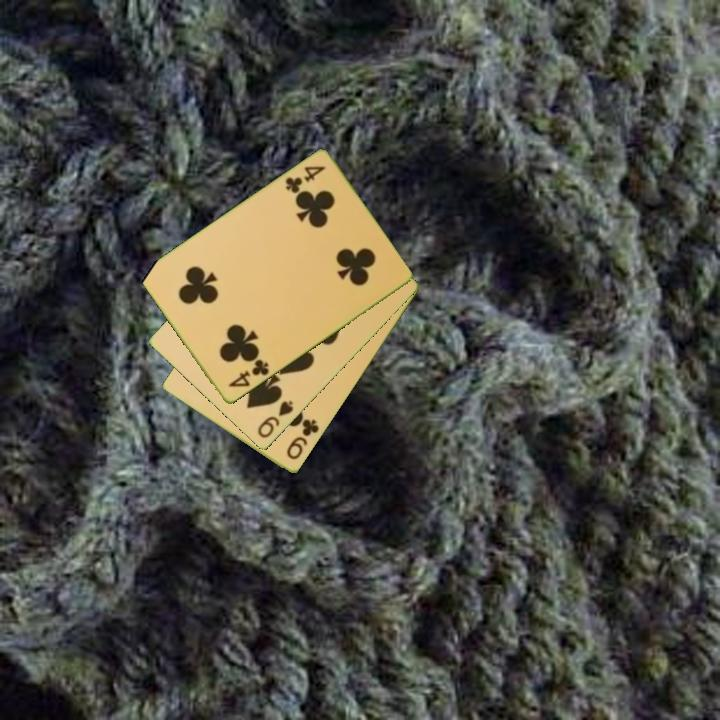4c: (224, 356, 272, 391), (281, 163, 328, 197)
9c: (283, 416, 322, 463)
9s: (254, 398, 296, 442)
